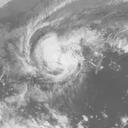cyclone: (27, 24, 82, 81)
